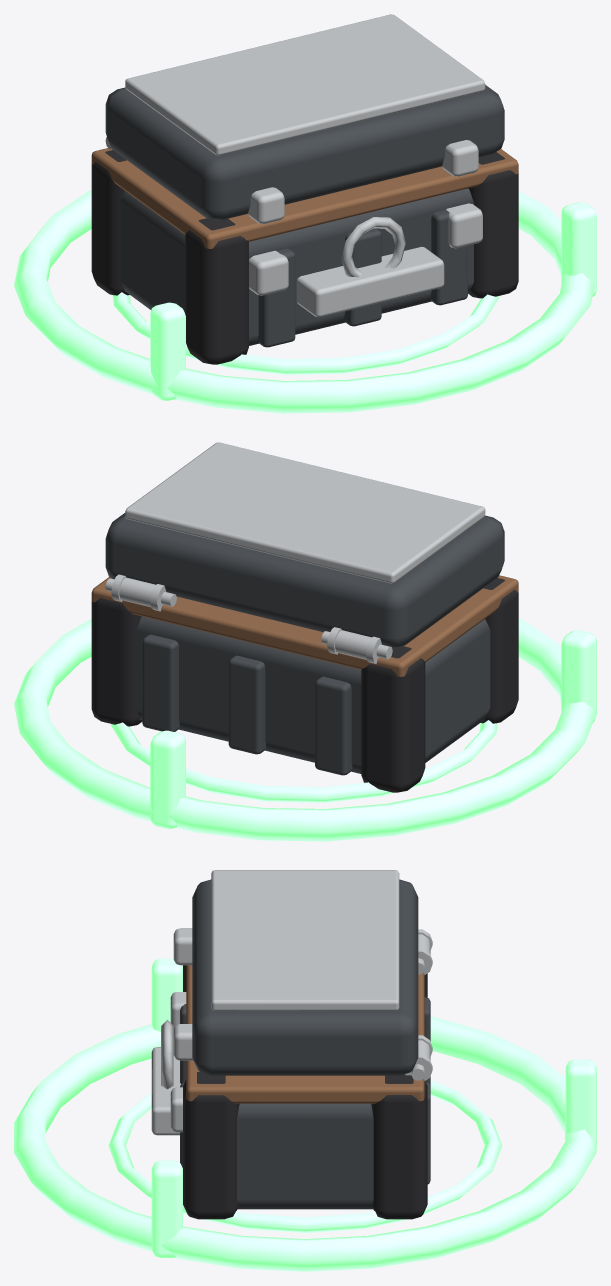
File: fps-survival-forest-outpost-loot-cache-uncommon-b2b0be36__32659.glb
3 views of the same model, one above another, from view 1: azimuth 30°, elevation 25°; view 2: azimuth 150°, elevation 25°; view 3: azimuth 270°, elevation 25° (orthographic).
Parts seen in each view (by area): view 1: loot-cache-uncommon, lid/steel, lid/gunmetal; view 2: loot-cache-uncommon, lid/steel, lid/gunmetal; view 3: loot-cache-uncommon, lid/steel, lid/gunmetal.
Part boxes in pixels (x1=…): loot-cache-uncommon: x1=14, y1=137, x2=596, y2=413; lid/steel: x1=125, y1=14, x2=485, y2=223; lid/gunmetal: x1=105, y1=85, x2=504, y2=219; loot-cache-uncommon: x1=14, y1=574, x2=596, y2=841; lid/steel: x1=125, y1=442, x2=485, y2=583; lid/gunmetal: x1=105, y1=513, x2=504, y2=647; loot-cache-uncommon: x1=14, y1=929, x2=596, y2=1271; lid/steel: x1=173, y1=870, x2=399, y2=1060; lid/gunmetal: x1=192, y1=879, x2=418, y2=1075.
Size of the model in its own units: 0.936 by 0.385 by 0.9296.
